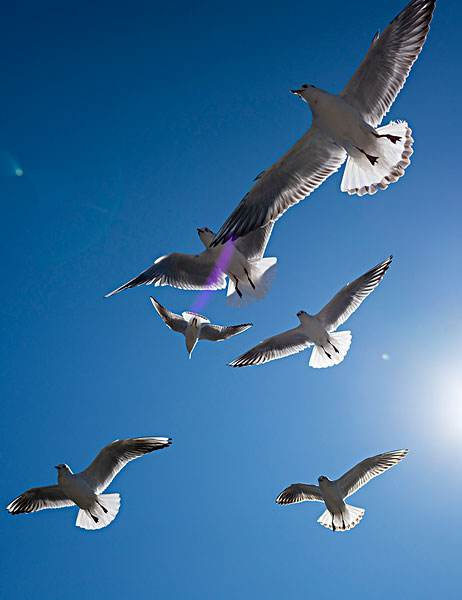bird: (207, 1, 440, 245), (99, 176, 282, 306), (223, 253, 392, 372), (9, 432, 173, 534), (276, 449, 410, 530), (154, 294, 252, 356)
